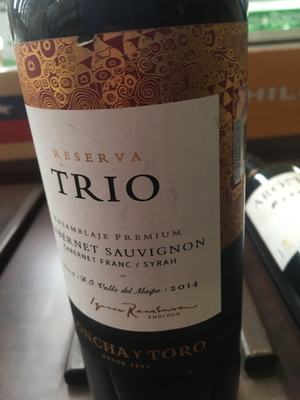trio cabernet sauvignon: (14, 25, 261, 400)
